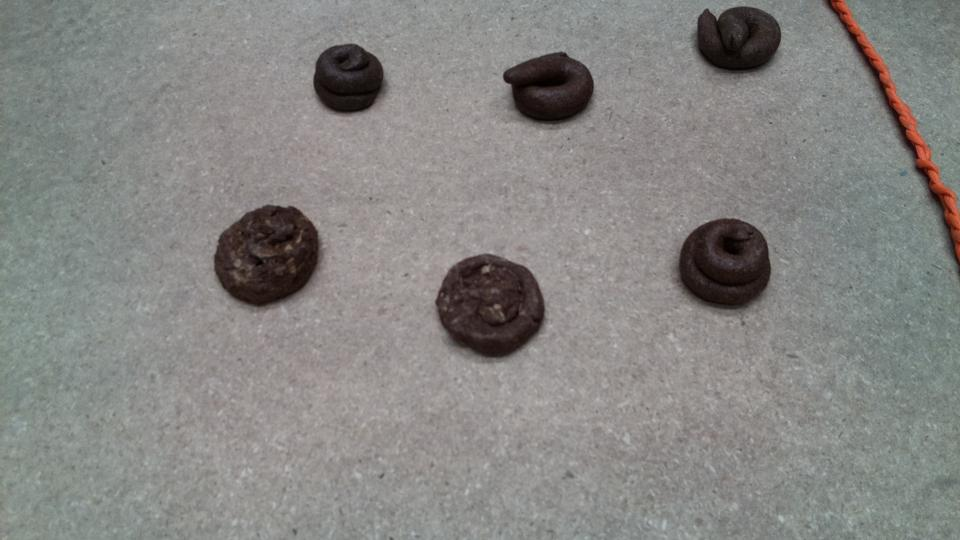poop: (431, 250, 549, 361), (209, 202, 323, 313), (673, 213, 775, 314), (501, 47, 597, 129), (693, 4, 785, 75), (310, 39, 389, 118)
rope: (836, 1, 960, 263)
